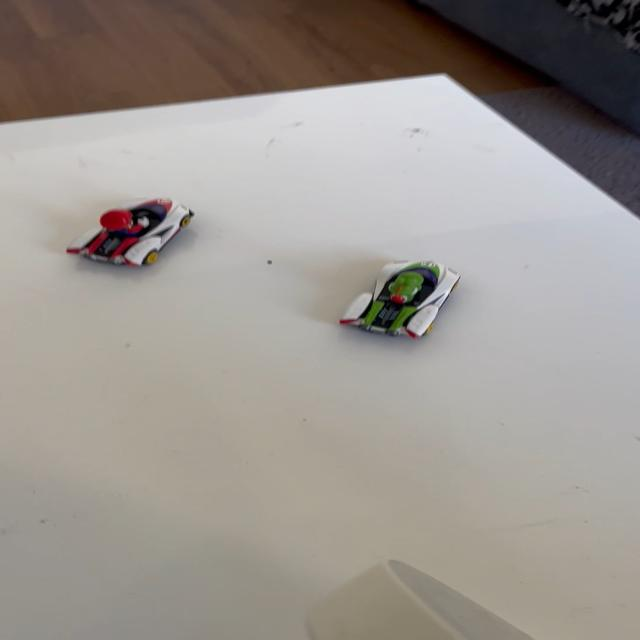mario: (54, 192, 210, 278)
yoshi: (320, 252, 476, 348)
